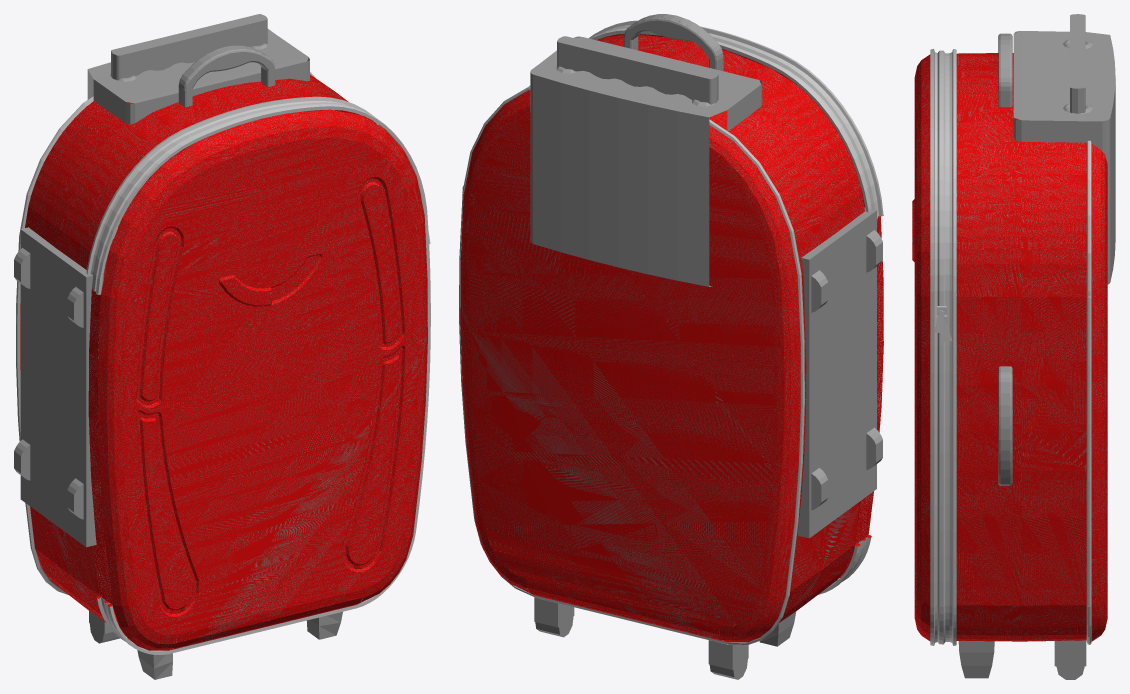
Rendered from bag_fbx.fbx.
3 views of the same model, side by side, from view 1: azimuth 30°, elevation 25°; view 2: azimuth 150°, elevation 25°; view 3: azimuth 270°, elevation 25° (orthographic). The views are drawn at different scales.
Parts seen in each view (by area): view 1: SketchUp.006; view 2: SketchUp.006; view 3: SketchUp.006.
Boxes of the visible parts, box(x1,y1,x2,y2) form: SketchUp.006: box(14, 14, 430, 679); SketchUp.006: box(459, 14, 883, 679); SketchUp.006: box(912, 14, 1115, 679).
Size of the model in its own units: 44.09 by 66.46 by 20.57.
